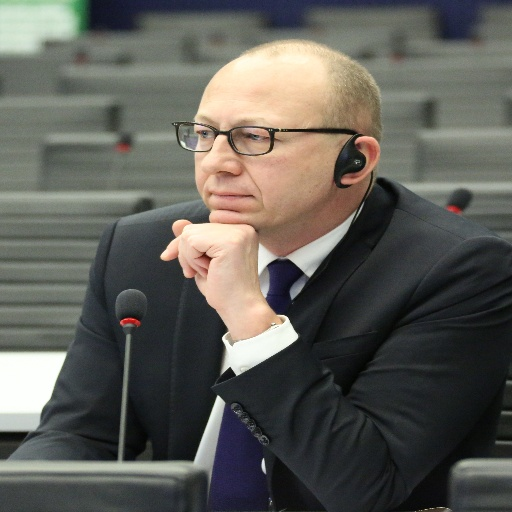hand: (170, 219, 276, 336)
